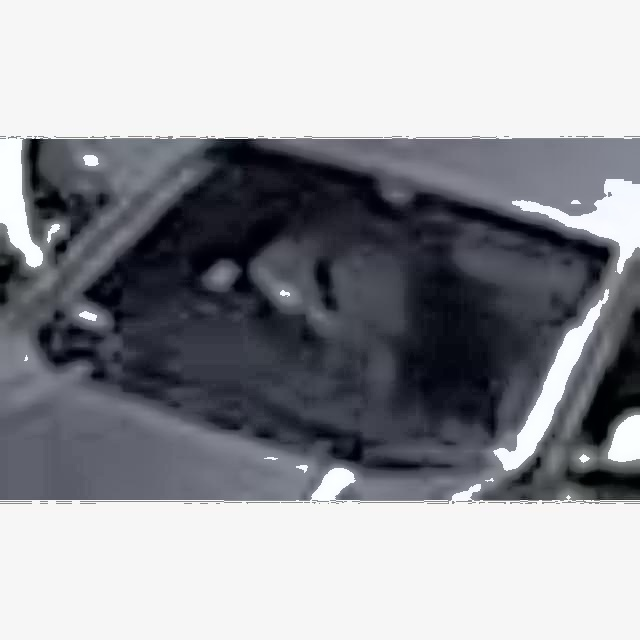pakai: (181, 192, 392, 380)
